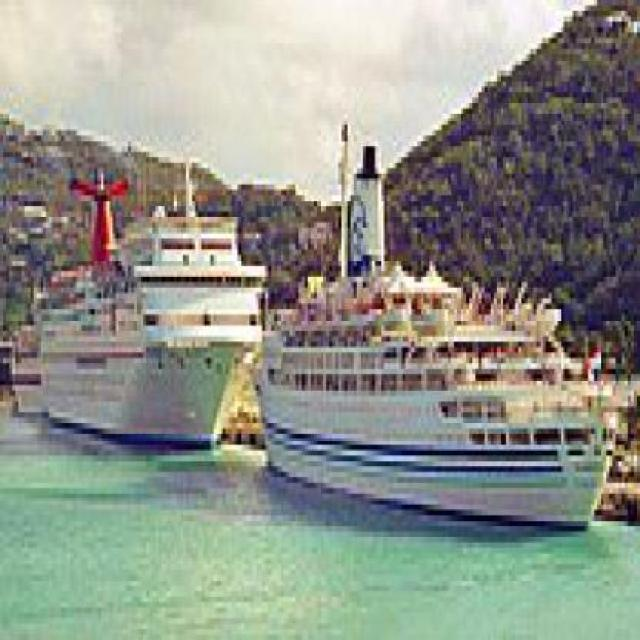cruise: (245, 126, 620, 538), (25, 131, 279, 462)
